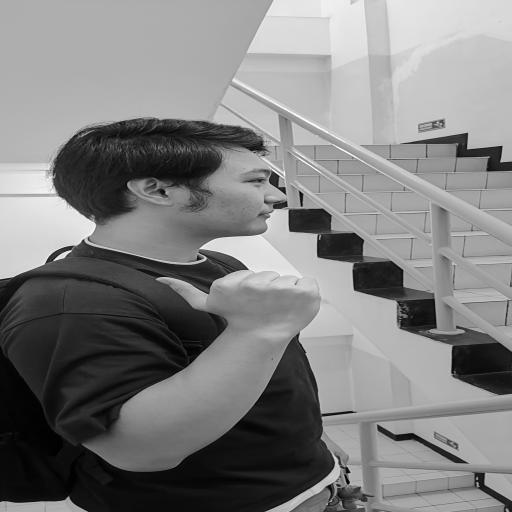back: (138, 259, 347, 342)
